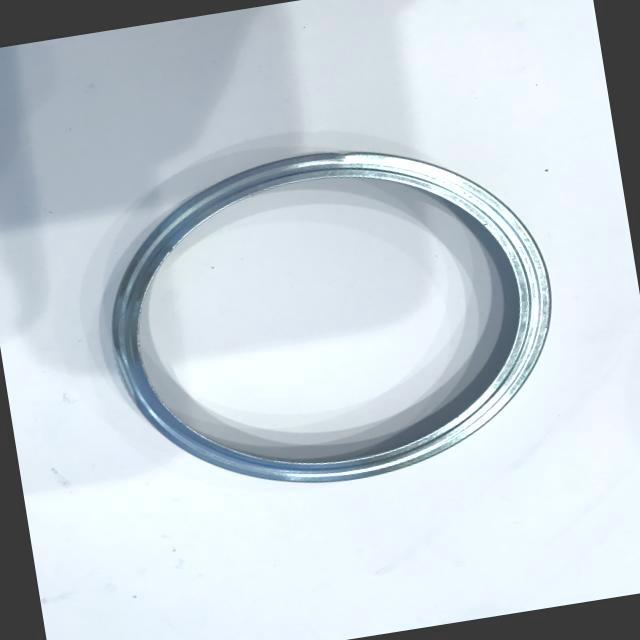metal: (61, 103, 596, 546)
